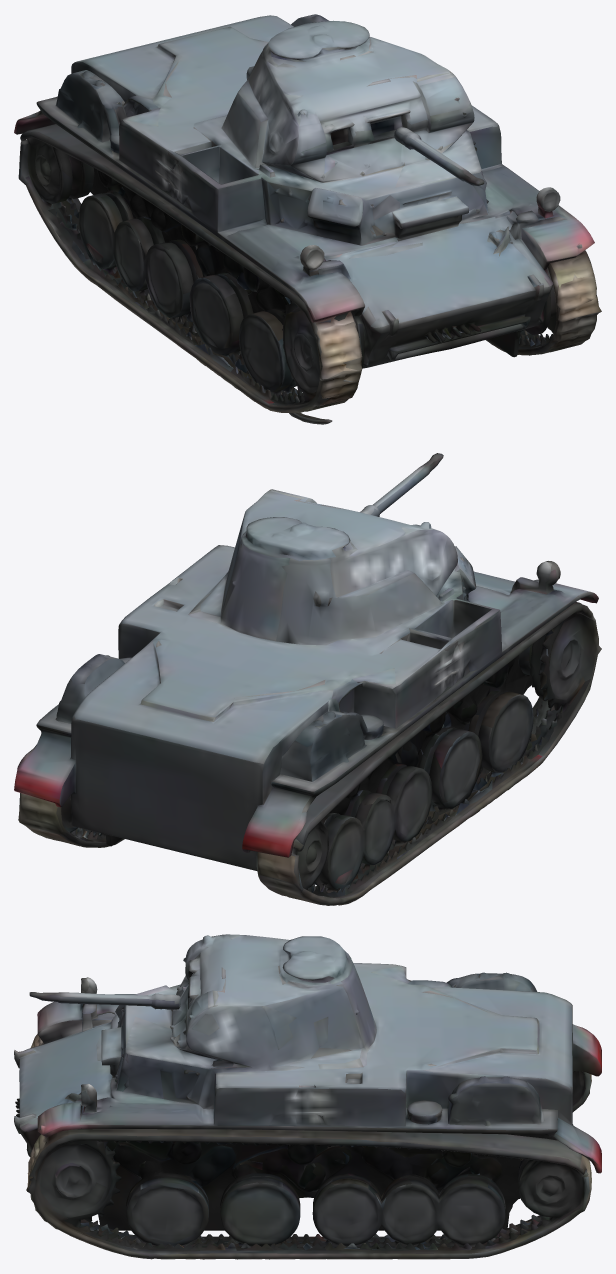
Rendered from pz2_opt.glb.
3 renders of one model, top to bottom at view 1: azimuth 30°, elevation 25°; view 2: azimuth 150°, elevation 25°; view 3: azimuth 270°, elevation 25°, orthographic. The views are drawn at different scales.
Visible parts, largest first — view 1: node_0; view 2: node_0; view 3: node_0.
Part boxes in pixels (left/top/right/bottom): node_0: left=14, top=14, right=601, bottom=424; node_0: left=14, top=453, right=601, bottom=905; node_0: left=14, top=934, right=601, bottom=1259.
Size of the model in its own units: 0.5507 by 0.5036 by 1.07.
Materials: 1 (1 with a texture image).
